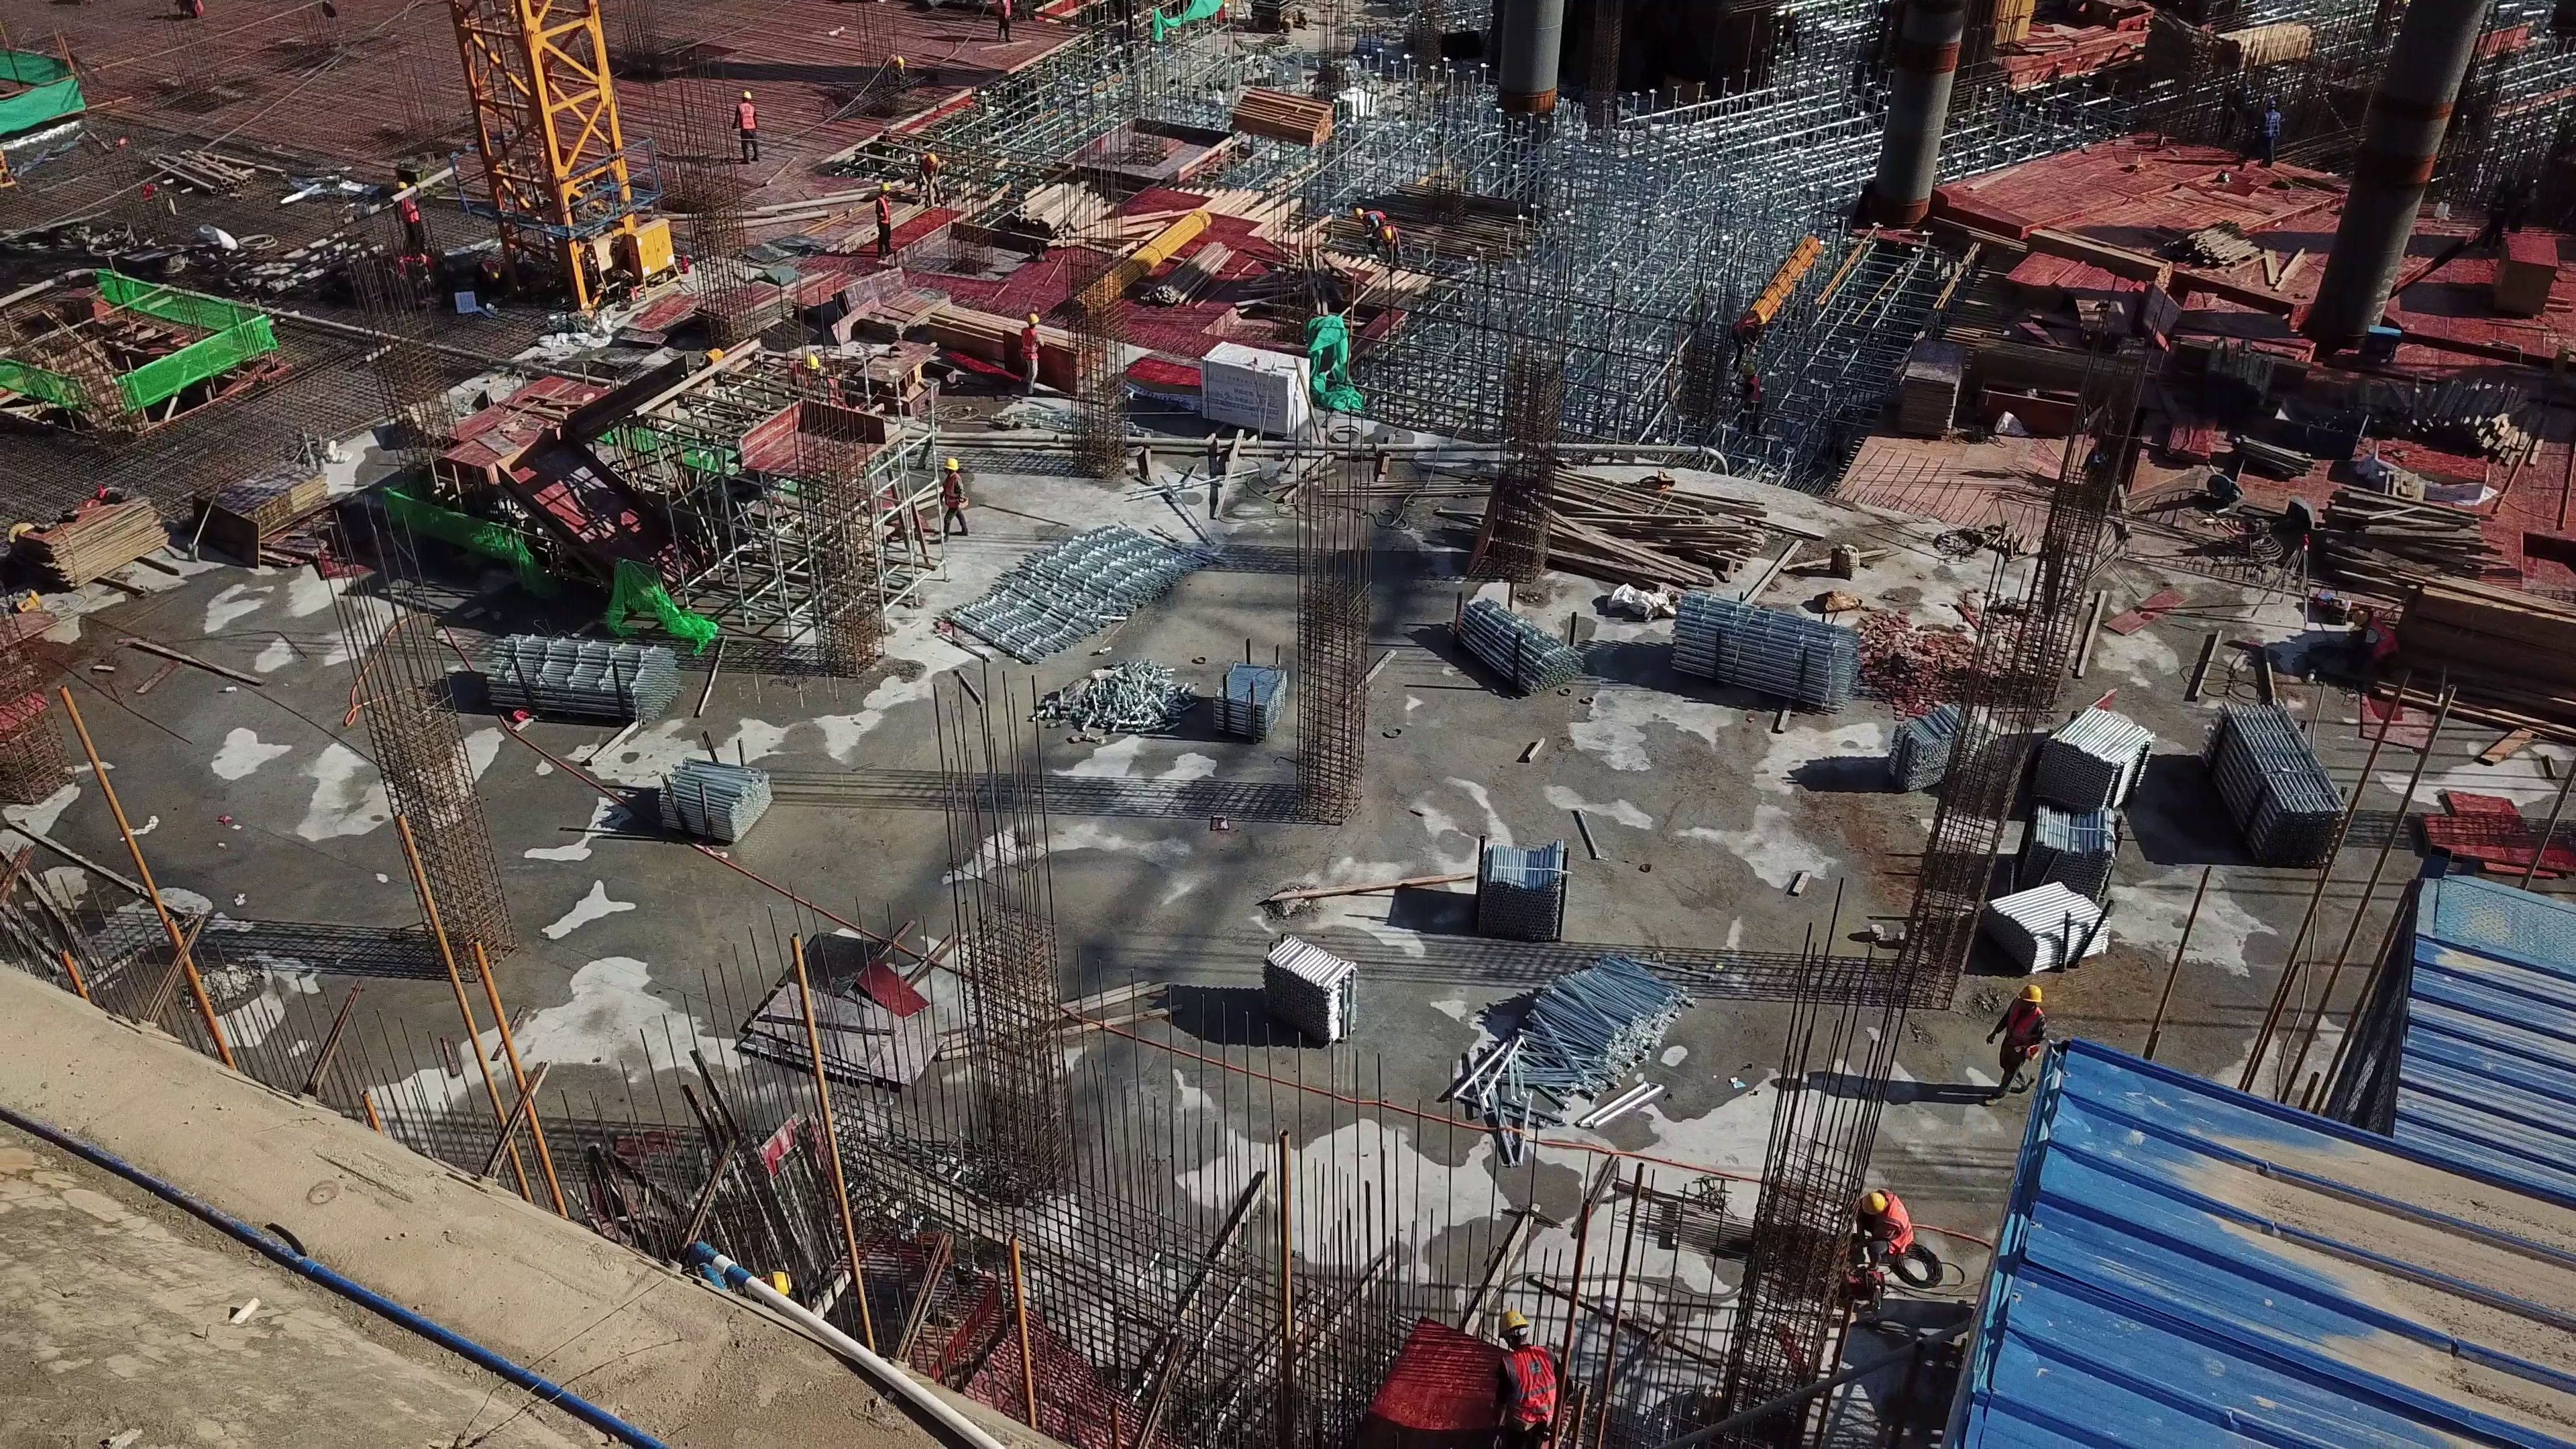board: (18, 492, 163, 582), (199, 464, 325, 546), (2498, 223, 2559, 306)
ebox: (616, 221, 682, 296)
person: (1490, 1299, 1585, 1449), (1834, 1171, 1916, 1287), (2000, 975, 2053, 1097), (2338, 605, 2394, 696), (723, 85, 773, 173), (866, 179, 910, 275), (1353, 197, 1405, 266), (908, 138, 950, 216), (934, 455, 968, 543), (1017, 311, 1051, 391), (877, 51, 914, 97)
scaffold: (1441, 926, 1680, 1138), (948, 541, 1163, 645), (1662, 590, 1864, 701), (2234, 695, 2333, 870), (1446, 570, 1569, 689), (1990, 871, 2118, 982), (484, 645, 653, 721), (1265, 936, 1365, 1052), (2033, 701, 2144, 799), (658, 757, 774, 843), (1881, 701, 1974, 794), (1479, 838, 1564, 928), (2031, 806, 2129, 873), (1218, 649, 1287, 737)
vest: (1502, 1346, 1563, 1436)
wood: (2307, 488, 2576, 703), (1479, 459, 1790, 578), (2353, 366, 2549, 465), (930, 301, 1102, 386), (985, 179, 1155, 260), (1972, 342, 2143, 403), (2182, 214, 2316, 292), (2205, 342, 2286, 433), (1234, 92, 1329, 149), (2206, 28, 2312, 76)
